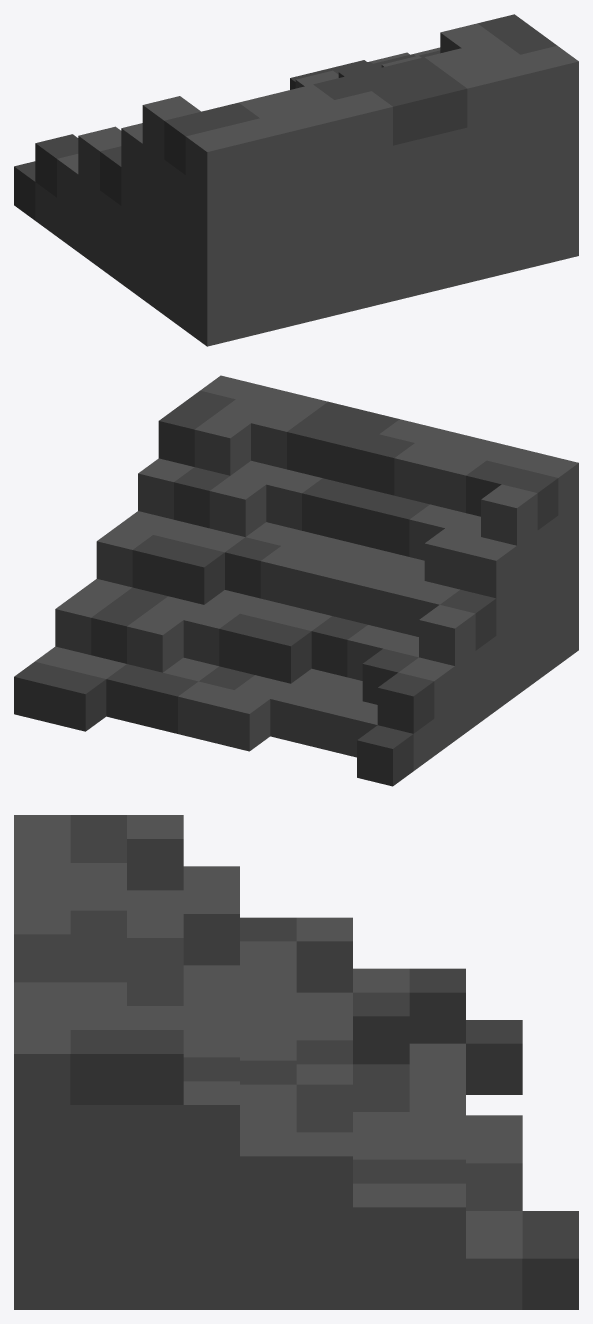
Rendered from Stein_Rand-0.2.obj.
3 views of the same model, one above another, from view 1: azimuth 30°, elevation 25°; view 2: azimuth 150°, elevation 25°; view 3: azimuth 270°, elevation 25° (orthographic). The views are drawn at different scales.
Size of the model in its own units: 1 by 0.5 by 1.
1 material, 1 textured.
